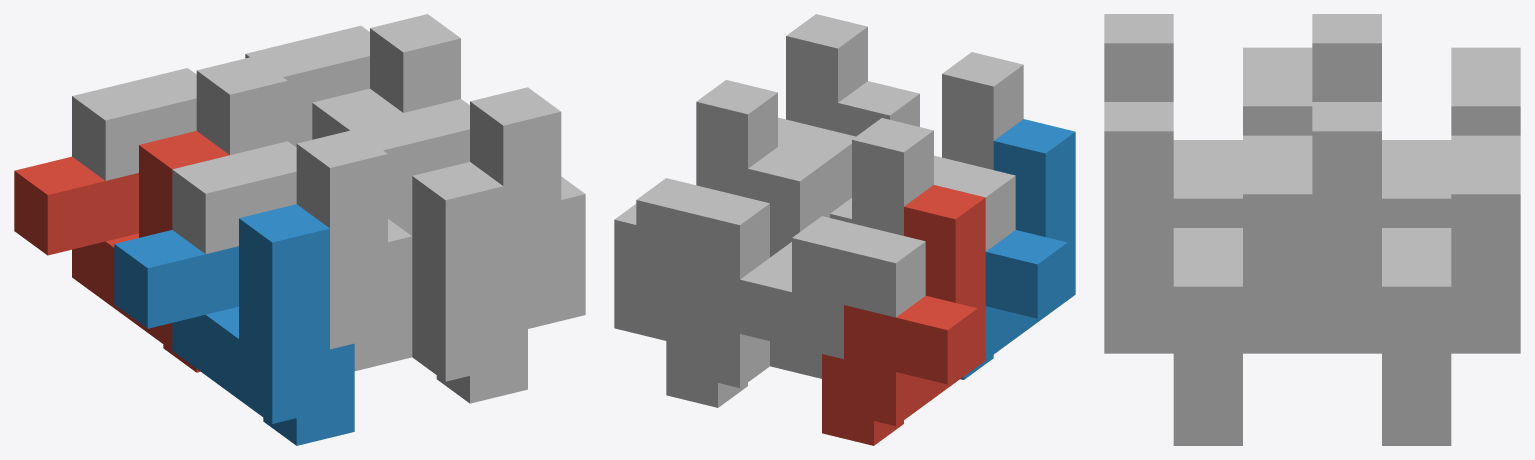
Rendered from tiling.obj.
3 views of the same model, side by side, from view 1: azimuth 30°, elevation 25°; view 2: azimuth 150°, elevation 25°; view 3: azimuth 270°, elevation 25° (orthographic). The views are drawn at different scales.
Visible parts, largest first — view 1: copy_1_domain_2, copy_1_domain_4, copy_1_domain_8, copy_1_domain_6, copy_1_domain_1, copy_1_domain_3, copy_1_domain_7, copy_1_domain_5; view 2: copy_1_domain_1, copy_1_domain_7, copy_1_domain_3, copy_1_domain_5, copy_1_domain_2, copy_1_domain_4, copy_1_domain_8, copy_1_domain_6; view 3: copy_1_domain_7, copy_1_domain_8, copy_1_domain_3, copy_1_domain_4, copy_1_domain_5, copy_1_domain_6.
Part boxes in pixels (box(x1,y1,x2,y2)): copy_1_domain_2: box(114, 204, 354, 445); copy_1_domain_4: box(172, 129, 412, 371); copy_1_domain_8: box(345, 87, 585, 328); copy_1_domain_6: box(388, 162, 527, 403); copy_1_domain_1: box(14, 131, 229, 372); copy_1_domain_3: box(72, 56, 287, 180); copy_1_domain_7: box(245, 14, 460, 136); copy_1_domain_5: box(287, 88, 402, 147); copy_1_domain_1: box(822, 185, 985, 445); copy_1_domain_7: box(614, 80, 777, 340); copy_1_domain_3: box(770, 118, 933, 378); copy_1_domain_5: box(666, 147, 829, 407); copy_1_domain_2: box(960, 119, 1075, 379); copy_1_domain_4: box(934, 52, 1023, 251); copy_1_domain_8: box(778, 14, 867, 213); copy_1_domain_6: box(830, 81, 919, 223); copy_1_domain_7: box(1312, 102, 1520, 412); copy_1_domain_8: box(1104, 102, 1312, 412); copy_1_domain_3: box(1312, 14, 1520, 227); copy_1_domain_4: box(1104, 14, 1312, 227); copy_1_domain_5: box(1312, 320, 1520, 445); copy_1_domain_6: box(1104, 320, 1312, 445).
Bounding box in the file's own units: 7 × 5 × 6.
